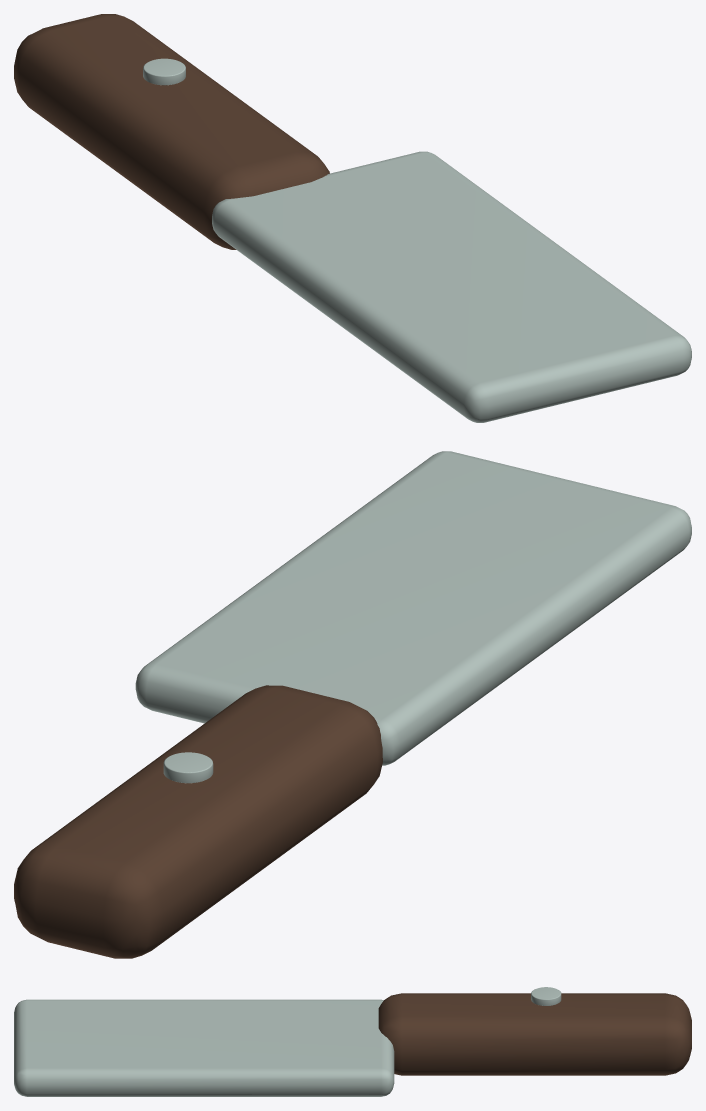
The model's file is knife.obj.
3 views of the same model, one above another, from view 1: azimuth 30°, elevation 25°; view 2: azimuth 150°, elevation 25°; view 3: azimuth 270°, elevation 25° (orthographic). The views are drawn at different scales.
Visible parts, largest first — view 1: knife_metal, knife_cocoa; view 2: knife_metal, knife_cocoa; view 3: knife_metal, knife_cocoa.
Boxes of the visible parts, bbox=[...] form: knife_metal: bbox=[143, 58, 691, 422]; knife_cocoa: bbox=[14, 14, 329, 249]; knife_metal: bbox=[135, 451, 691, 783]; knife_cocoa: bbox=[14, 685, 382, 958]; knife_metal: bbox=[14, 987, 561, 1096]; knife_cocoa: bbox=[378, 993, 691, 1075].
Size of the model in its own units: 0.073 by 0.0305 by 0.2675.
